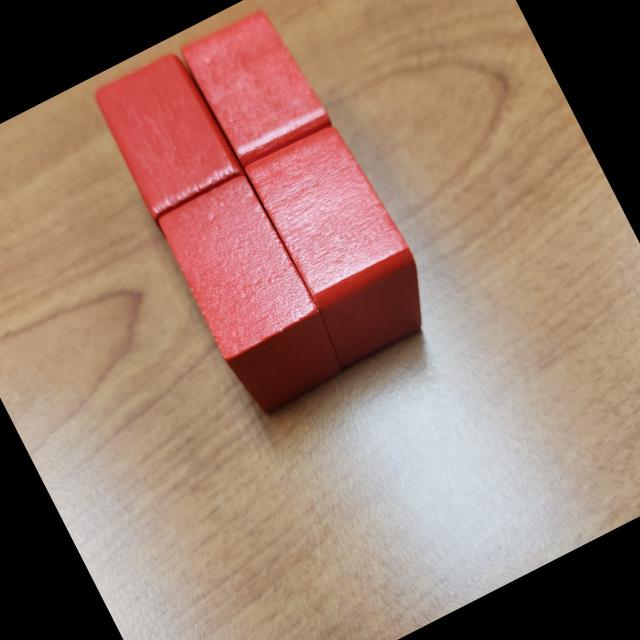red: (238, 115, 447, 372), (152, 168, 356, 424), (87, 44, 255, 235), (177, 0, 335, 172)
